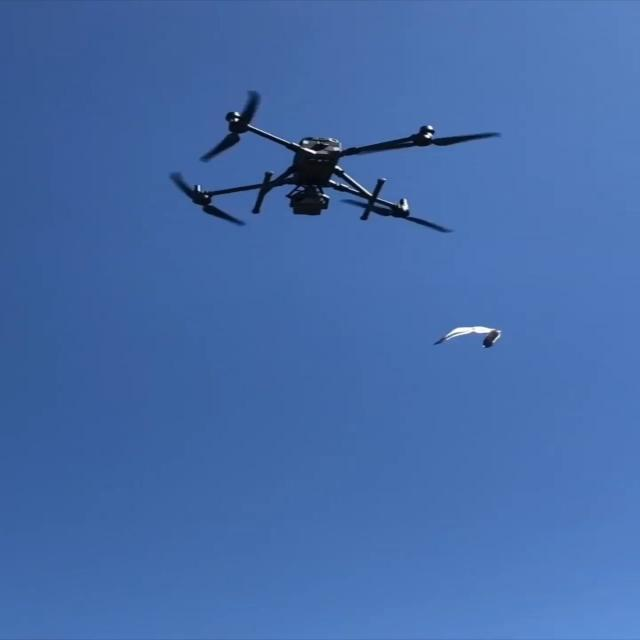bird: (432, 326, 502, 348)
drone: (168, 89, 502, 233)
